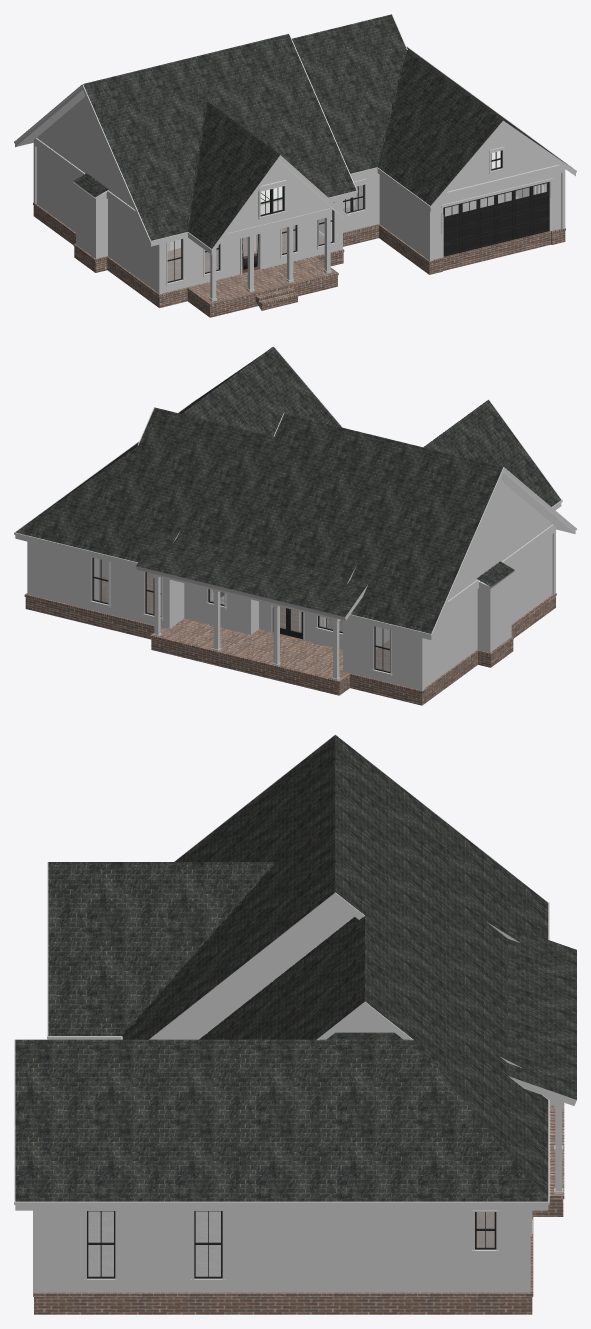
File: americanHouse.glb
3 views of the same model, one above another, from view 1: azimuth 30°, elevation 25°; view 2: azimuth 150°, elevation 25°; view 3: azimuth 270°, elevation 25° (orthographic). The views are drawn at different scales.
Parts seen in each view (by area): view 1: model; view 2: model; view 3: model.
Boxes of the visible parts, x1,y1,x2,y2 form: model: (14,14,576,317); model: (14,346,576,705); model: (14,734,576,1314).
Size of the model in its own units: 15 by 6.64 by 11.9.
Materials: 19 (13 with a texture image).
